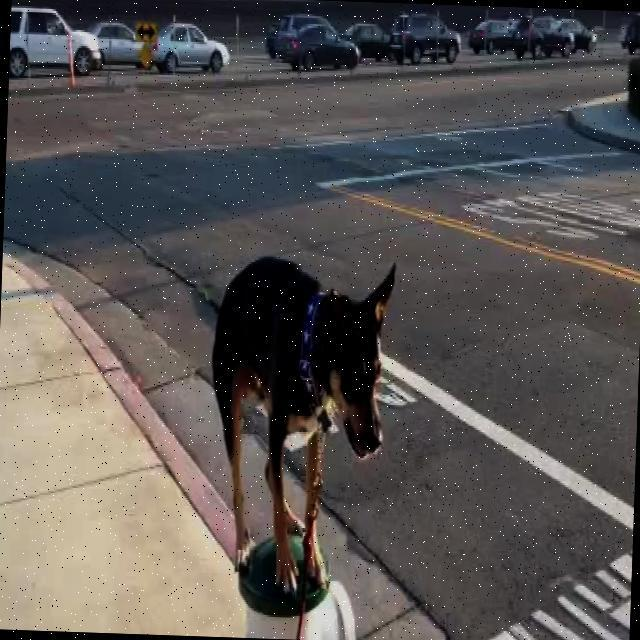fire_hydrant: (239, 533, 358, 640)
